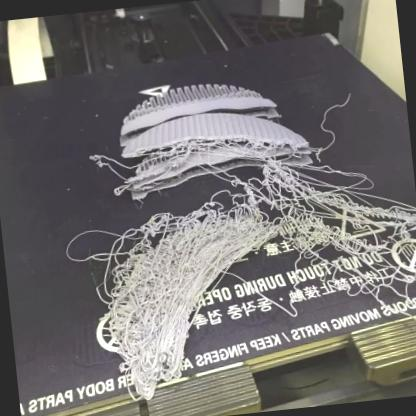fail: (72, 191, 271, 403), (254, 135, 416, 331)
